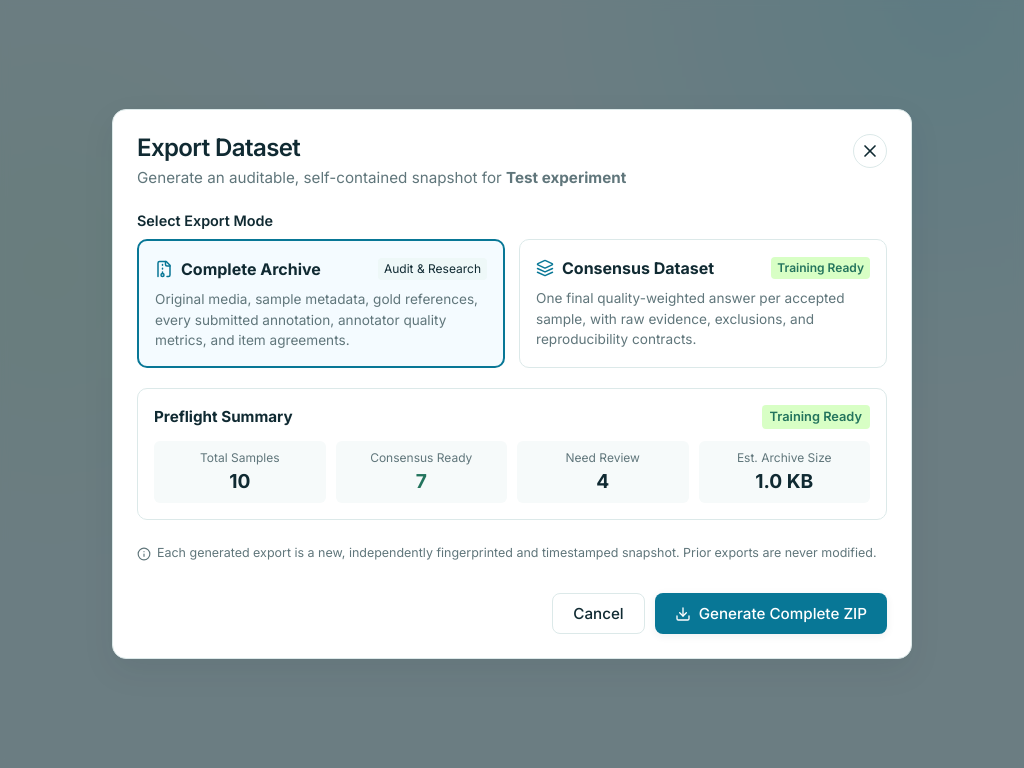
ExportDatasetModal interactions › renders live preview 'At these settings:' breakdown in consensus mode
Check: the text "Preflight Summary" is shown, box [154, 406, 293, 428]
Click the text "Consensus Dataset" at (638, 268), box [562, 256, 714, 280]
(page scrolled)
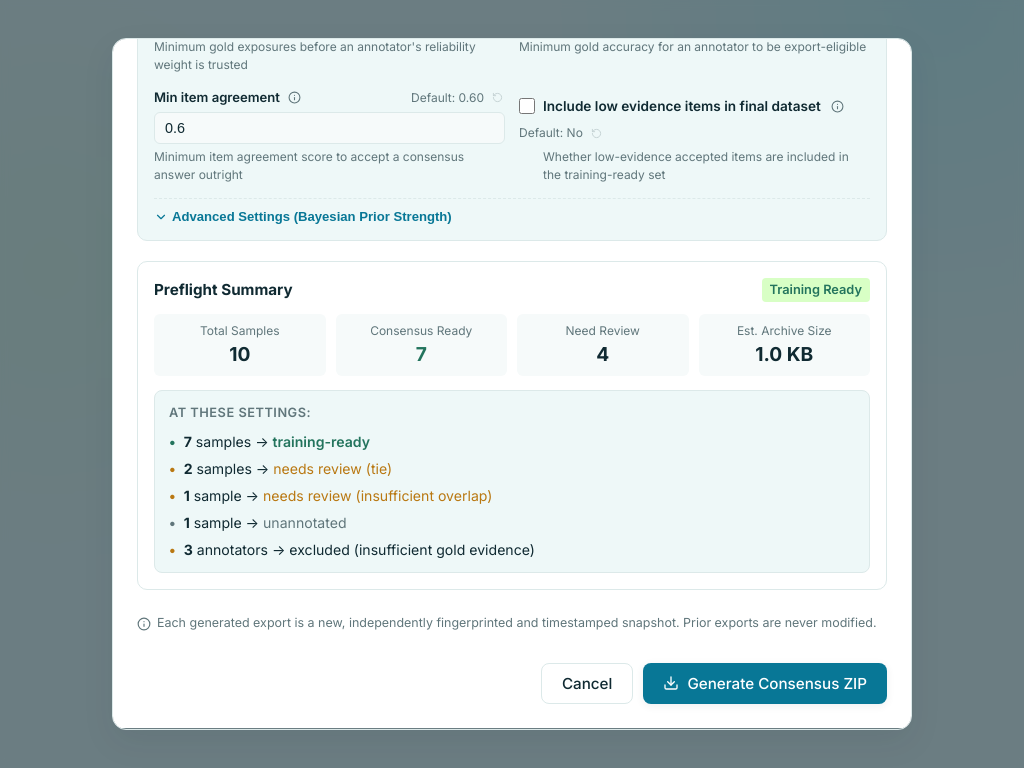
Check: the text "At these settings:" is shown, box [169, 406, 311, 420]
Check: the text "training-ready" is shown, box [273, 433, 370, 450]
Check: the text "needs review (tie)" is shown, box [273, 460, 392, 477]
